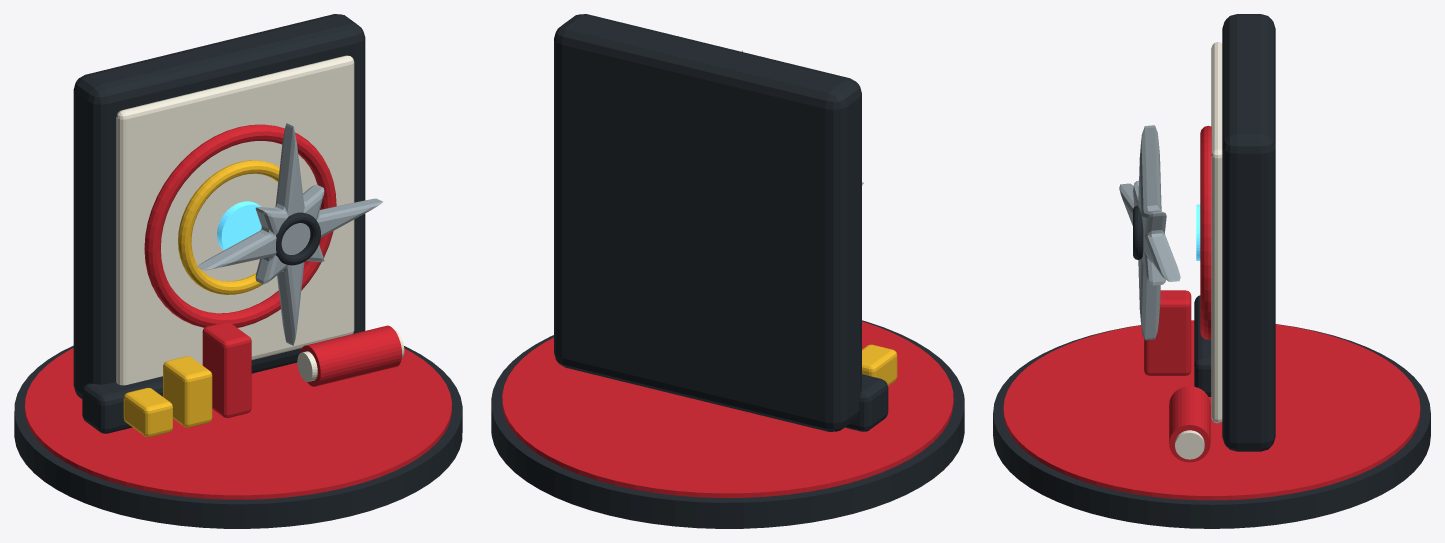
Rendered from ninja-mode-blockout.glb.
The picture shows the model from 3 angles, left to right: view 1: azimuth 30°, elevation 25°; view 2: azimuth 150°, elevation 25°; view 3: azimuth 270°, elevation 25°; orthographic projection. The views are drawn at different scales.
Parts seen in each view (by area): view 1: TARGET_FACE, DISPLAY_PLINTH_ACCENT, TARGET_FRAME, DISPLAY_PLINTH, HERO_SHURIKEN, TARGET_RING_OUTER, LEVEL_3, SCROLL_LEFT, TARGET_RING_MIDDLE, LEVEL_2, PROGRESS_PANEL, LEVEL_1 (+3 smaller); view 2: TARGET_FRAME, DISPLAY_PLINTH_ACCENT, DISPLAY_PLINTH, PROGRESS_PANEL, LEVEL_1; view 3: DISPLAY_PLINTH_ACCENT, TARGET_FRAME, DISPLAY_PLINTH, HERO_SHURIKEN, TARGET_FACE, LEVEL_3, TARGET_RING_OUTER, SCROLL_LEFT, PROGRESS_PANEL, SCROLL_RIGHT, SHURIKEN_GRIP.
Boxes of the visible parts, x1,y1,x2,y2 form: TARGET_FACE: (116, 55, 354, 385); DISPLAY_PLINTH_ACCENT: (25, 348, 451, 499); TARGET_FRAME: (73, 14, 365, 398); DISPLAY_PLINTH: (14, 345, 462, 528); HERO_SHURIKEN: (197, 123, 382, 345); TARGET_RING_OUTER: (144, 124, 336, 327); LEVEL_3: (202, 322, 251, 417); SCROLL_LEFT: (300, 325, 401, 386); TARGET_RING_MIDDLE: (178, 160, 279, 294); LEVEL_2: (163, 356, 212, 427); PROGRESS_PANEL: (82, 376, 162, 433); LEVEL_1: (123, 387, 172, 437); TARGET_FRAME: (554, 14, 861, 431); DISPLAY_PLINTH_ACCENT: (502, 321, 953, 497); DISPLAY_PLINTH: (491, 320, 964, 528); PROGRESS_PANEL: (845, 374, 888, 431); LEVEL_1: (862, 344, 897, 385); DISPLAY_PLINTH_ACCENT: (1003, 320, 1420, 500); TARGET_FRAME: (1222, 14, 1275, 451); DISPLAY_PLINTH: (993, 324, 1430, 528); HERO_SHURIKEN: (1119, 125, 1180, 340); TARGET_FACE: (1211, 42, 1222, 423); LEVEL_3: (1144, 290, 1191, 375); TARGET_RING_OUTER: (1200, 125, 1211, 339); SCROLL_LEFT: (1169, 386, 1210, 462); PROGRESS_PANEL: (1194, 295, 1211, 396); SCROLL_RIGHT: (1175, 430, 1204, 459); SHURIKEN_GRIP: (1133, 205, 1143, 259).
Bounding box in the file's own units: 2.96 × 2.7 × 2.96.
